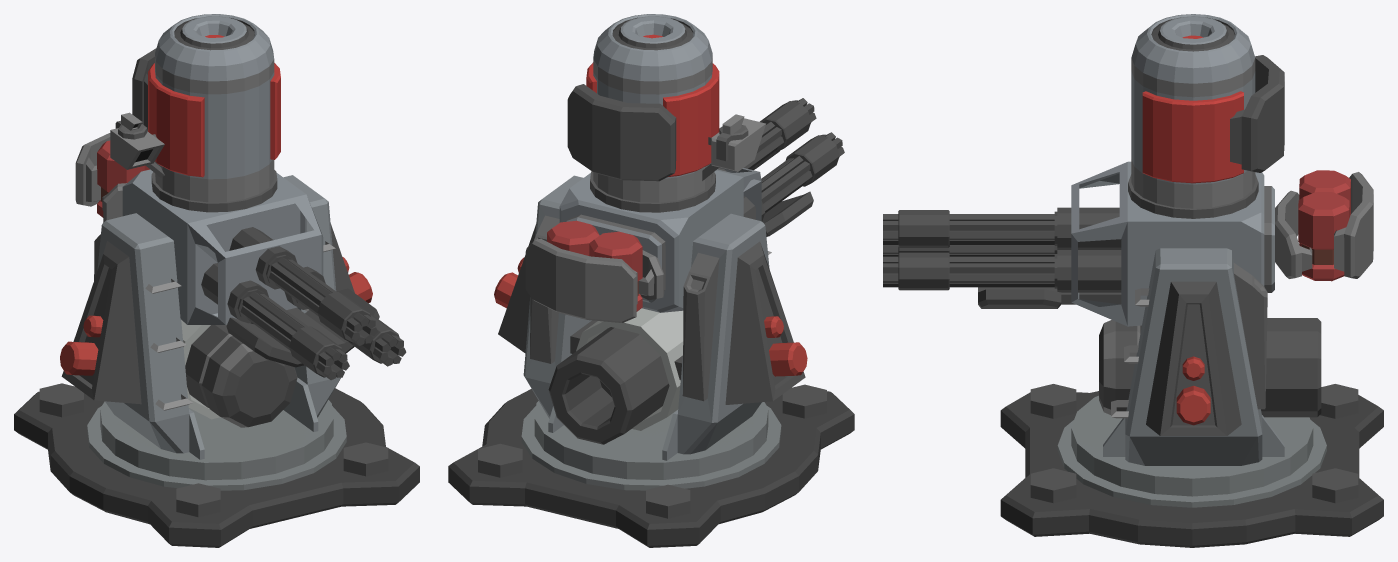
Rendered from model_polyfleet_battleship_phalanx08.fbx.
The picture shows the model from 3 angles, left to right: view 1: azimuth 30°, elevation 25°; view 2: azimuth 150°, elevation 25°; view 3: azimuth 270°, elevation 25°; orthographic projection. The views are drawn at different scales.
Visible parts, largest first — view 1: weapon_rotate, weapon_barrel_tilt, model_polyfleet_battleship_phalanx08, weapon_barrels3, weapon_barrels1, weapon_barrels2; view 2: weapon_rotate, weapon_barrel_tilt, model_polyfleet_battleship_phalanx08, weapon_barrels1, weapon_barrels3; view 3: weapon_barrel_tilt, weapon_rotate, model_polyfleet_battleship_phalanx08, weapon_barrels2, weapon_barrels3, weapon_barrels1.
Boxes of the visible parts, x1,y1,x2,y2 form: weapon_rotate: [60, 175, 372, 490]; weapon_barrel_tilt: [75, 14, 379, 367]; model_polyfleet_battleship_phalanx08: [14, 383, 419, 547]; weapon_barrels3: [229, 227, 377, 345]; weapon_barrels1: [201, 263, 349, 380]; weapon_barrels2: [284, 266, 406, 366]; weapon_rotate: [494, 175, 807, 490]; weapon_barrel_tilt: [525, 14, 813, 322]; model_polyfleet_battleship_phalanx08: [448, 384, 854, 547]; weapon_barrels1: [743, 132, 844, 221]; weapon_barrels3: [717, 98, 816, 171]; weapon_barrel_tilt: [978, 14, 1373, 326]; weapon_rotate: [1057, 248, 1326, 507]; model_polyfleet_battleship_phalanx08: [1000, 384, 1383, 547]; weapon_barrels2: [883, 250, 1121, 292]; weapon_barrels3: [883, 207, 1121, 249]; weapon_barrels1: [883, 245, 1057, 256].
Size of the model in its own units: 384 by 519 by 530.
